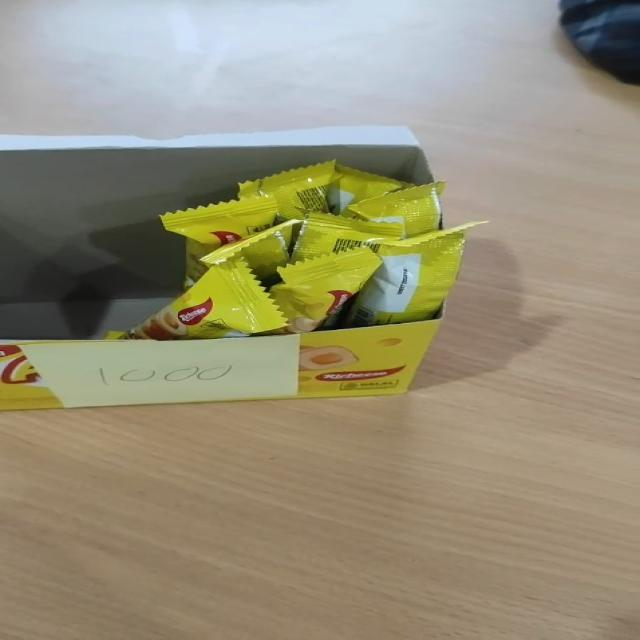Ahh: (339, 220, 490, 328), (115, 256, 289, 340), (159, 192, 277, 288), (260, 244, 384, 334), (198, 218, 304, 288), (342, 182, 448, 240), (237, 159, 336, 220), (288, 211, 404, 263), (328, 163, 416, 215)
